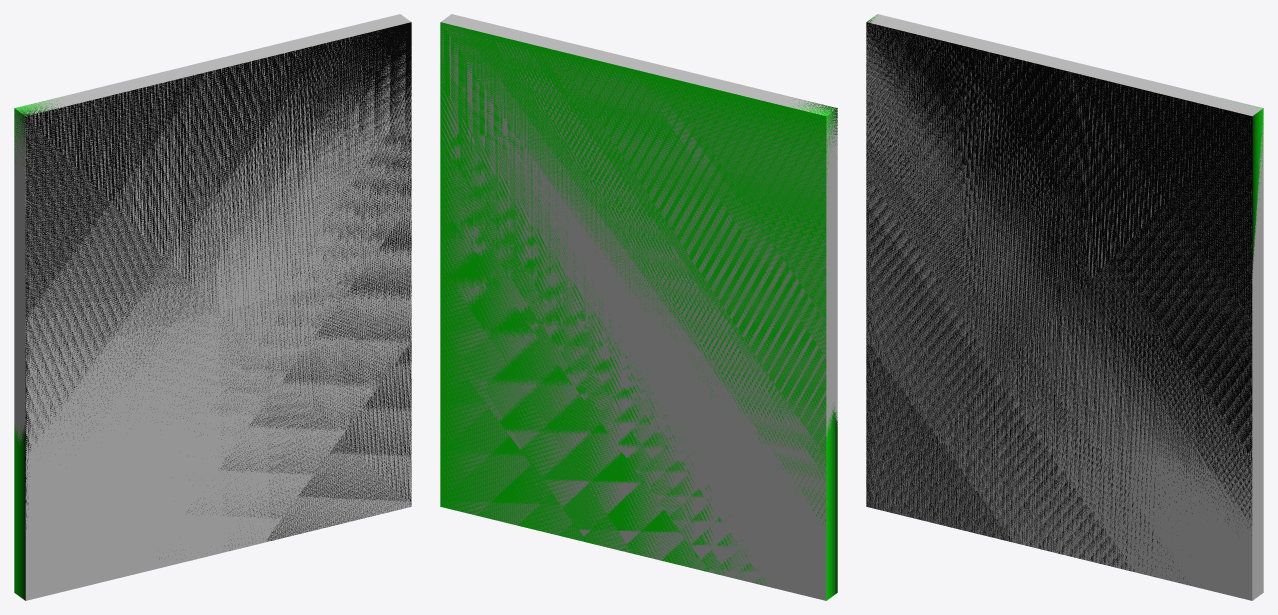
The model's file is SM_His_Sal_Wall_Short_Modular_01.fbx.
3 renders of one model, left to right at view 1: azimuth 30°, elevation 25°; view 2: azimuth 150°, elevation 25°; view 3: azimuth 330°, elevation 25°, orthographic.
Parts seen in each view (by area): view 1: SM_His_Sal_Wall_Short_Modular_01_ConvexHulls, SM_His_Sal_Wall_Short_Modular_01; view 2: SM_His_Sal_Wall_Short_Modular_01_ConvexHulls, SM_His_Sal_Wall_Short_Modular_01; view 3: SM_His_Sal_Wall_Short_Modular_01, SM_His_Sal_Wall_Short_Modular_01_ConvexHulls.
Part boxes in pixels (x1,y1,x2,y2): SM_His_Sal_Wall_Short_Modular_01_ConvexHulls: [14, 14, 411, 600]; SM_His_Sal_Wall_Short_Modular_01: [14, 22, 411, 600]; SM_His_Sal_Wall_Short_Modular_01_ConvexHulls: [440, 14, 837, 600]; SM_His_Sal_Wall_Short_Modular_01: [440, 22, 837, 600]; SM_His_Sal_Wall_Short_Modular_01: [866, 14, 1263, 592]; SM_His_Sal_Wall_Short_Modular_01_ConvexHulls: [866, 14, 1263, 600].
Size of the model in its own units: 200 by 10.02 by 240.
